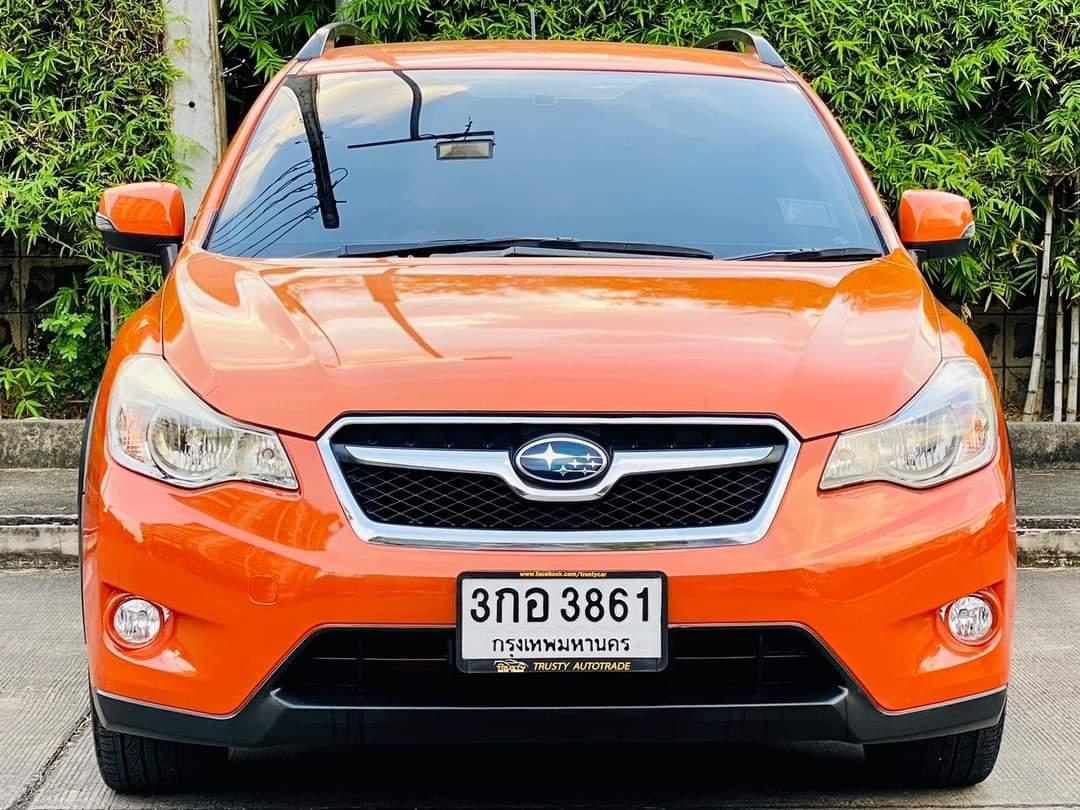license-plate: (453, 565, 671, 677)
